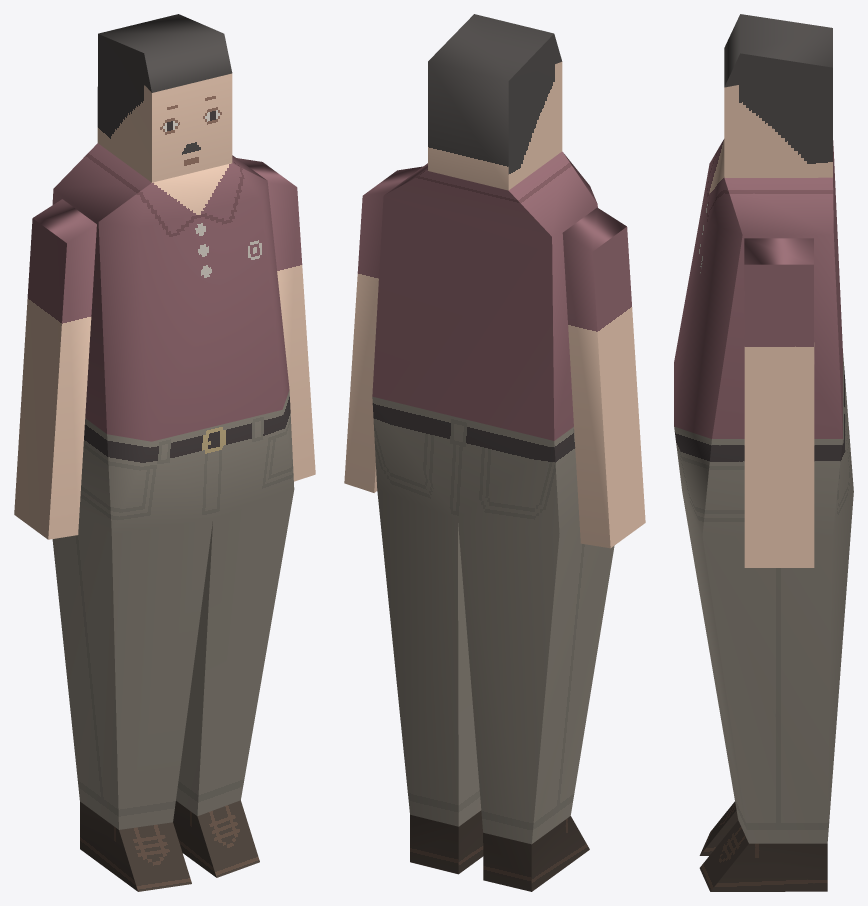
File: 0580_Nerdy_Guy.glb
3 renders of one model, left to right at view 1: azimuth 30°, elevation 25°; view 2: azimuth 150°, elevation 25°; view 3: azimuth 270°, elevation 25°, orthographic.
Visible parts, largest first — view 1: part_0; view 2: part_0; view 3: part_0.
Boxes of the visible parts, x1,y1,x2,y2 form: part_0: (14, 14, 315, 891); part_0: (344, 14, 645, 891); part_0: (674, 14, 853, 891).
Size of the model in its own units: 0.5823 by 1.71 by 0.3366.
1 material, 1 textured.
